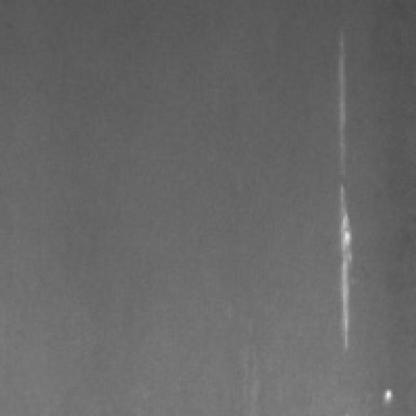scratches: (329, 23, 364, 354), (382, 381, 402, 405)
